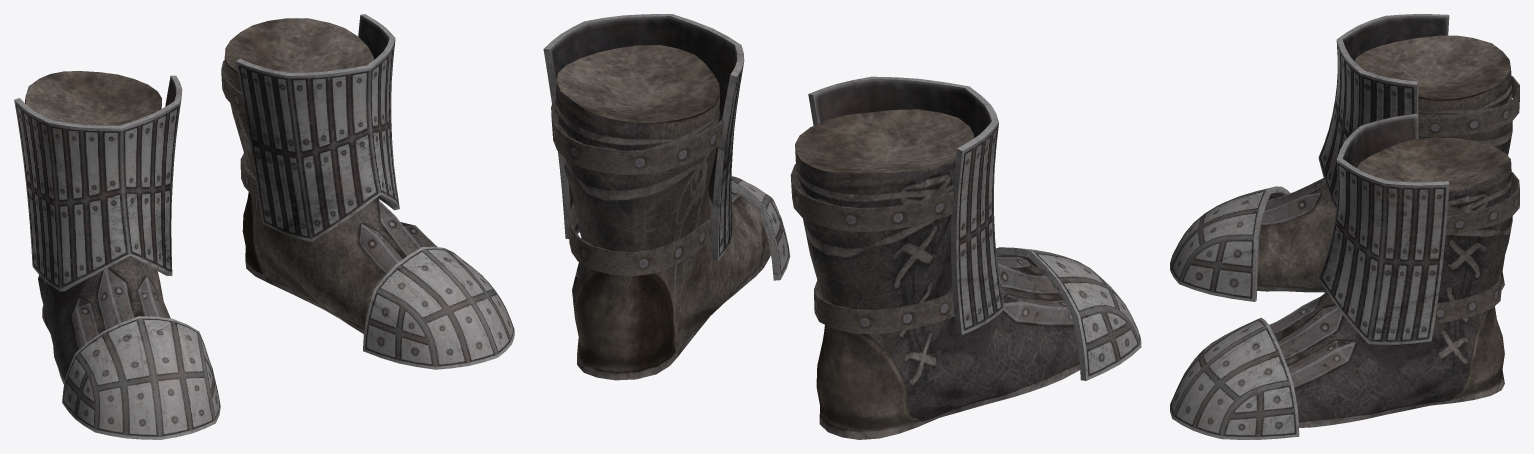
Rendered from sk_dwarf_iron_boots_heavy_b1.fbx.
3 renders of one model, left to right at view 1: azimuth 30°, elevation 25°; view 2: azimuth 150°, elevation 25°; view 3: azimuth 270°, elevation 25°, orthographic. The views are drawn at different scales.
Visible parts, largest first — view 1: sk_dwarf_iron_boots_heavy_b1.0, sk_dwarf_iron_boots_heavy_b1.1; view 2: sk_dwarf_iron_boots_heavy_b1.0, sk_dwarf_iron_boots_heavy_b1.1; view 3: sk_dwarf_iron_boots_heavy_b1.0, sk_dwarf_iron_boots_heavy_b1.1.
Boxes of the visible parts, x1,y1,x2,y2 form: sk_dwarf_iron_boots_heavy_b1.0: (14, 14, 514, 439); sk_dwarf_iron_boots_heavy_b1.1: (221, 60, 258, 200); sk_dwarf_iron_boots_heavy_b1.0: (543, 14, 1141, 439); sk_dwarf_iron_boots_heavy_b1.1: (551, 95, 954, 334); sk_dwarf_iron_boots_heavy_b1.0: (1170, 14, 1512, 439); sk_dwarf_iron_boots_heavy_b1.1: (1418, 76, 1519, 323).
Size of the model in its own units: 0.5738 by 0.4157 by 0.3158.
2 materials, 2 textured.
